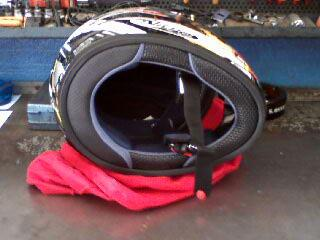helmet: (54, 16, 256, 155)
